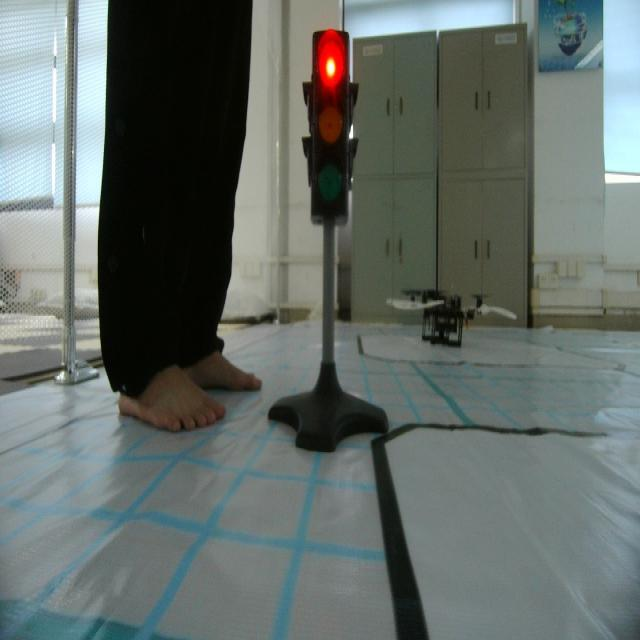red: (300, 24, 356, 228)
